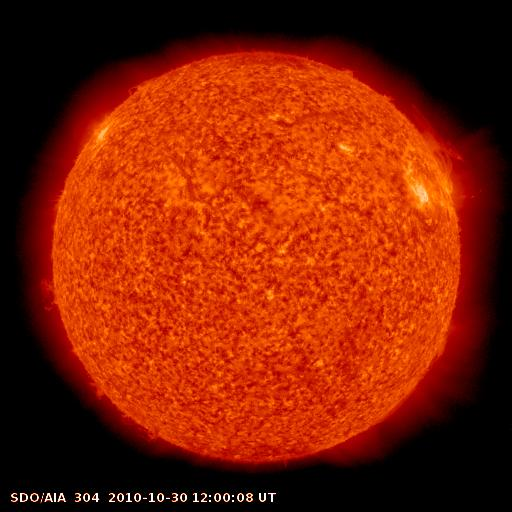prominence: (411, 97, 508, 213), (29, 262, 77, 327), (74, 360, 118, 407), (116, 413, 171, 449), (119, 71, 160, 107), (332, 54, 368, 92)
